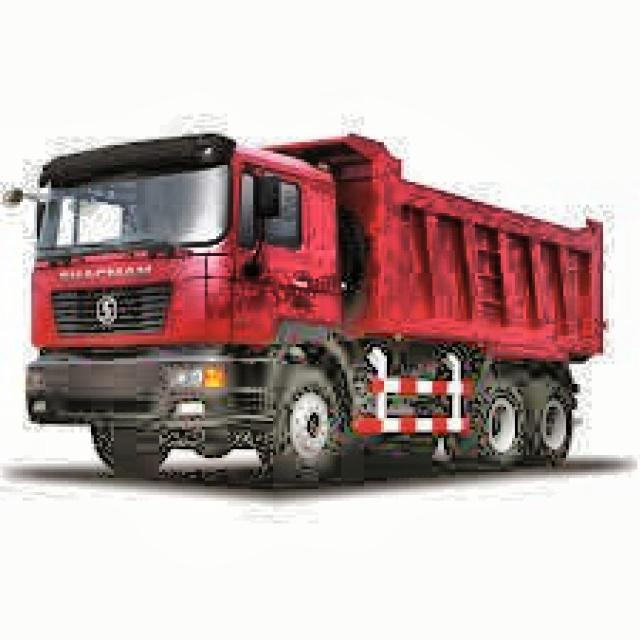dump_truck: (4, 84, 614, 502)
